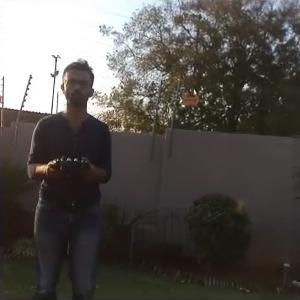follow: (21, 54, 116, 299)
